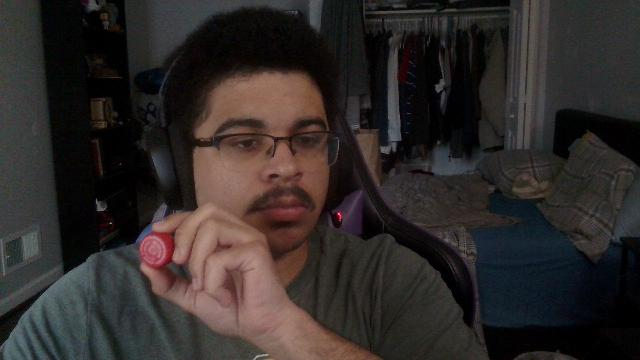cap: (140, 232, 174, 268)
